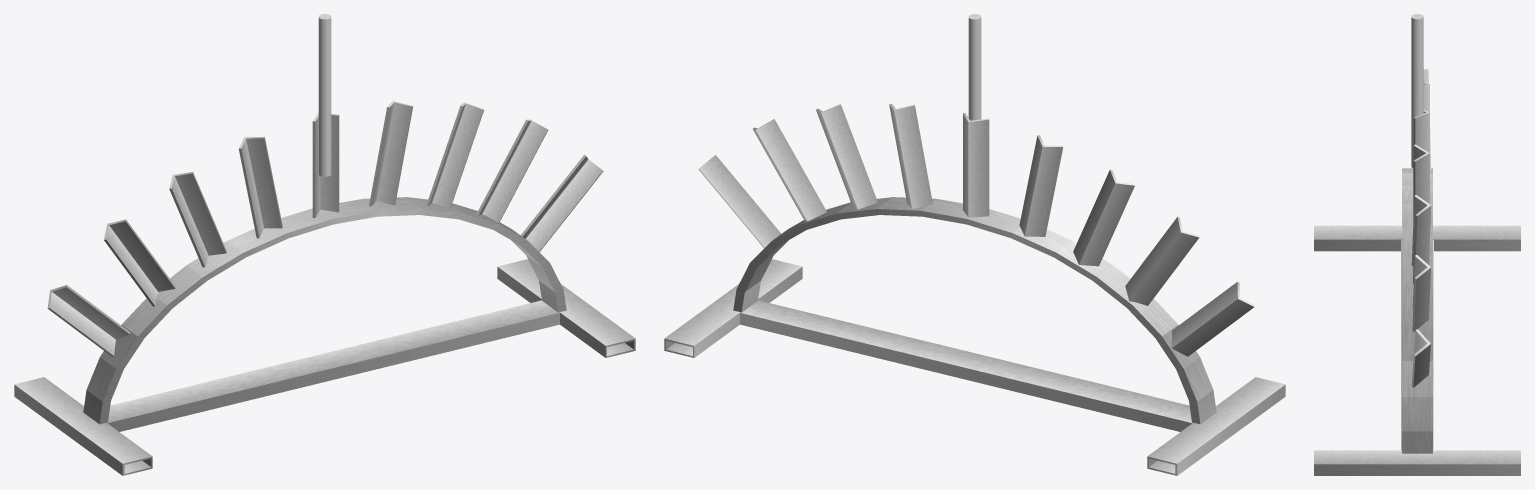
Rendered from 30mmRack9Shot.fbx.
3 renders of one model, left to right at view 1: azimuth 30°, elevation 25°; view 2: azimuth 150°, elevation 25°; view 3: azimuth 270°, elevation 25°, orthographic. The views are drawn at different scales.
Visible parts, largest first — view 1: Arc Bottom, Arc, Support Leg.001, Support Leg, Candle Holder.002, Candle Holder.001, Candle Holder.006, Candle Holder.005, Candle Holder.007, Candle Holder.003, Candle Holder.004, Candle Holder.008 (+2 smaller); view 2: Arc Bottom, Arc, Support Leg.001, Support Leg, Candle Holder.003, Candle Holder.004, Candle Holder.007, Candle Holder.002, Candle Holder, Candle Holder.008, Candle Holder.001, Candle Holder.005 (+2 smaller); view 3: Arc, Support Leg, Support Leg.001, 30mmCandle, Candle Holder.005, Candle Holder.004, Candle Holder.001, Candle Holder.006, Candle Holder, Arc Bottom.
Part boxes in pixels (x1,y1,x2,y2): Arc Bottom: (107,300,559,431); Arc: (83,197,566,424); Support Leg.001: (14,377,152,475); Support Leg: (497,259,635,357); Candle Holder.002: (238,137,282,238); Candle Holder.001: (369,101,413,206); Candle Holder.006: (520,154,603,251); Candle Holder.005: (476,119,548,223); Candle Holder.007: (104,219,175,306); Candle Holder.003: (169,172,226,267); Candle Holder.004: (426,102,483,208); Candle Holder.008: (47,285,130,356); Arc Bottom: (740,300,1192,431); Arc: (733,197,1216,424); Support Leg.001: (1147,377,1285,475); Support Leg: (664,259,802,357); Candle Holder.003: (1073,169,1134,266); Candle Holder.004: (816,104,877,209); Candle Holder.007: (1125,216,1199,305); Candle Holder.002: (1019,135,1063,236); Candle Holder: (963,113,989,217); Candle Holder.008: (1171,282,1254,356); Candle Holder.001: (889,104,932,208); Candle Holder.005: (753,119,826,221); Arc: (1402,168,1432,453); Support Leg: (1314,450,1520,475); Support Leg.001: (1314,225,1520,251); 30mmCandle: (1411,14,1423,167); Candle Holder.005: (1412,254,1430,331); Candle Holder.004: (1411,195,1431,283); Candle Holder.001: (1413,144,1429,218); Candle Holder.006: (1411,329,1430,387); Candle Holder: (1413,110,1429,152); Arc Bottom: (1401,240,1433,450).
Size of the model in its own units: 296 by 182 by 100.
10 materials, 10 textured.
